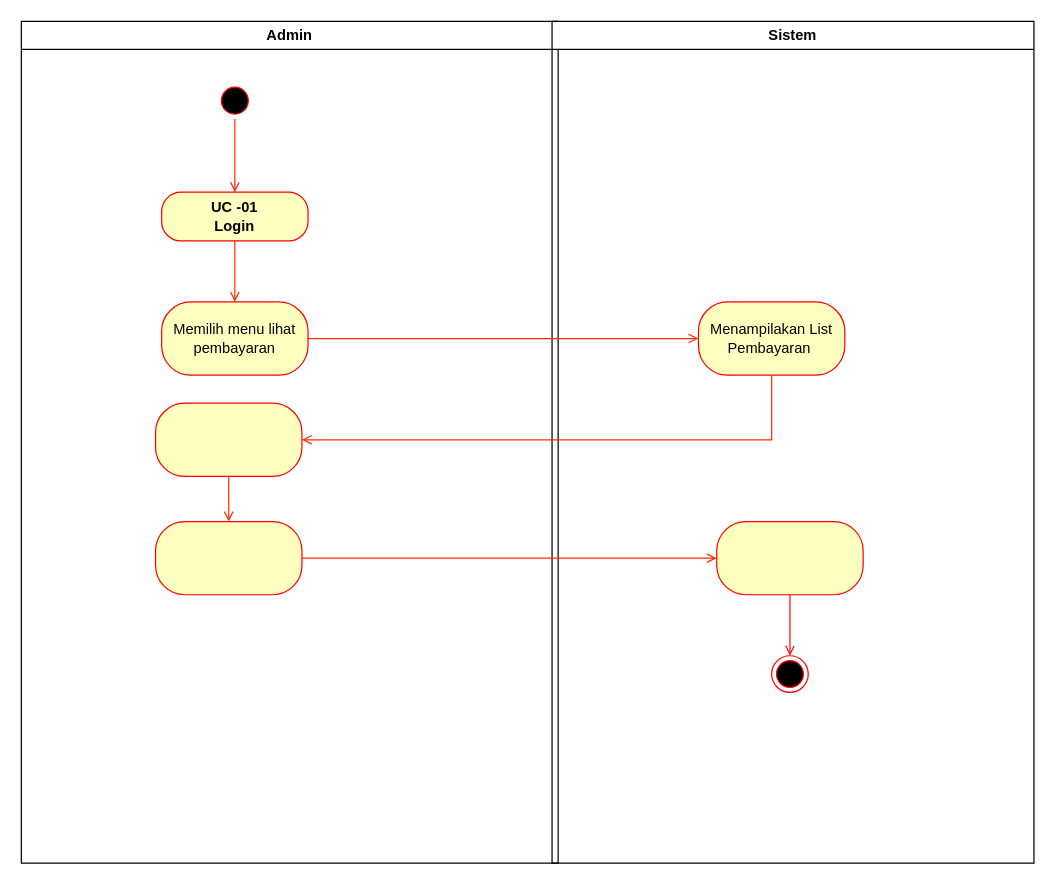
Some shapes in this 1055 by 885 pixel diagram are drawn without their labels. Here are the shapes that lost their labels. From the top down, the box of each, then its label:
(154, 402, 302, 476): Memilih List pembayaran
(154, 520, 302, 595): Menekan tombol terima
(716, 520, 863, 595): Menampilkan pesan pembayaran telah terverifikasi
